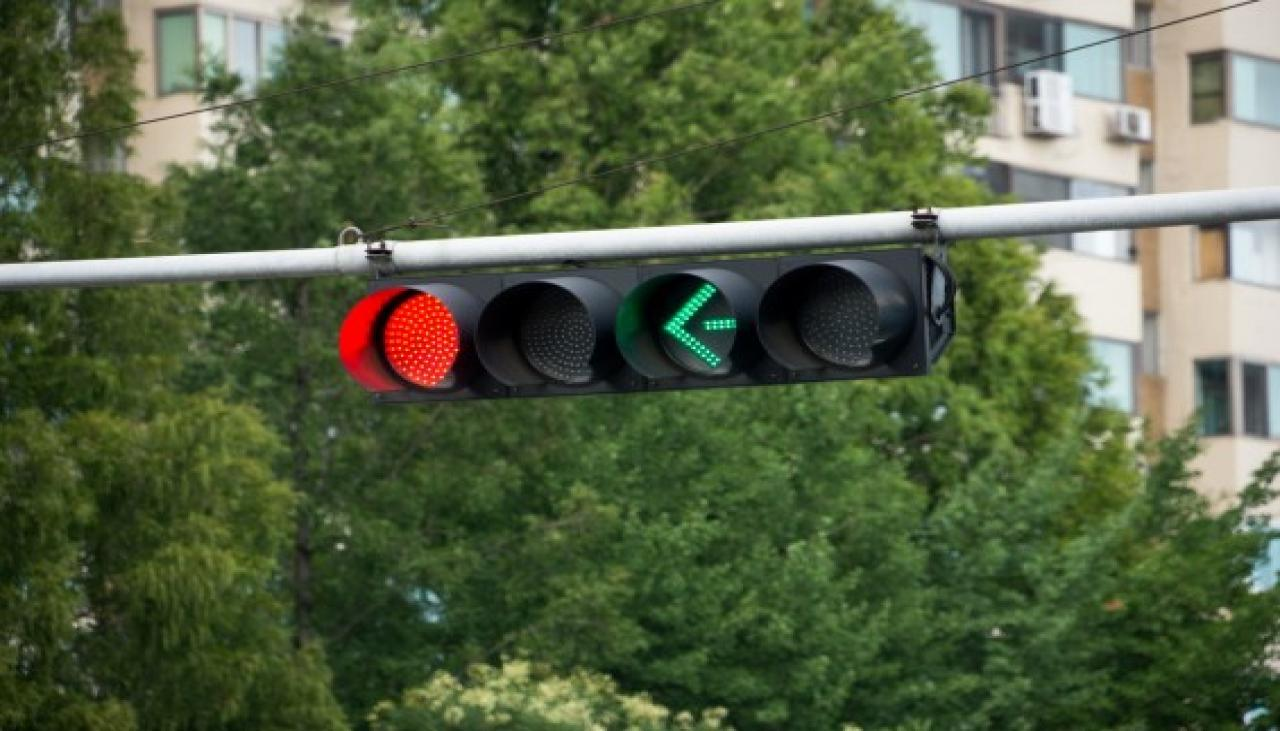Left turn: (621, 262, 762, 388)
Red Light: (343, 283, 465, 390)
